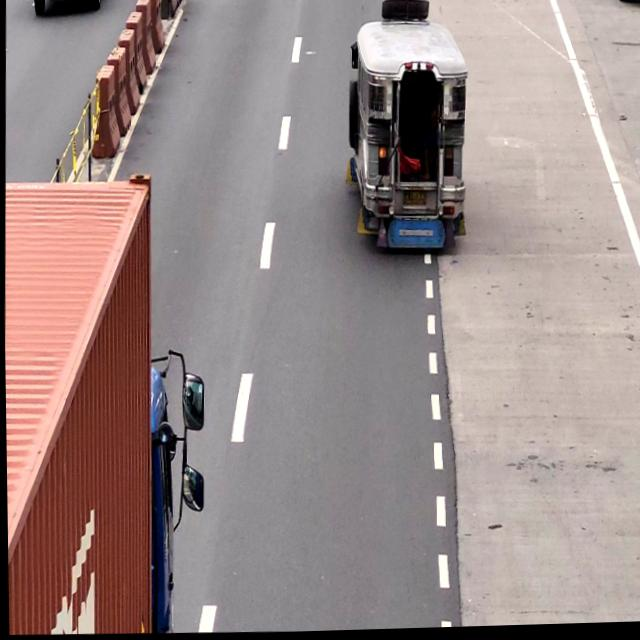Jeep: (347, 7, 468, 254)
License-Plate: (401, 192, 427, 208)
Truck: (2, 170, 172, 637)
